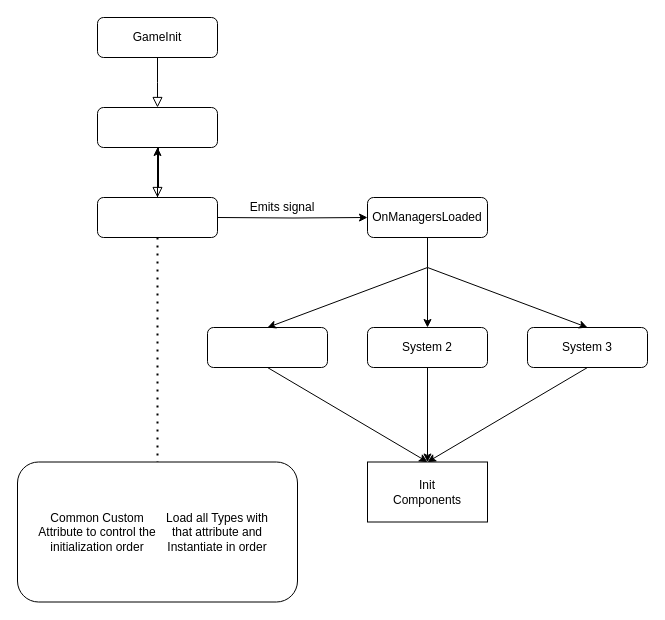
Some shapes in this 665 by 620 pixel diagram are drawn without their labels. The centre of each missing label's shape, as x and y in pixels:
"Inits Managers Singletons" belongs at (157,217).
"MainManager AutoLoad" belongs at (157,127).
"System 1" belongs at (267,347).
